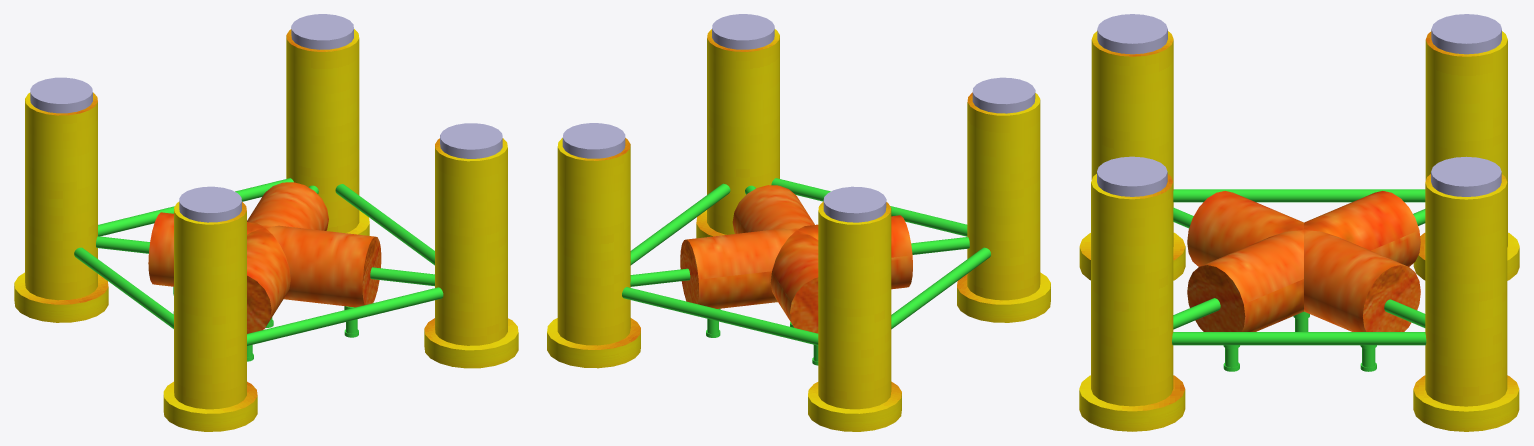
File: NuclearFactory_stage1.fbx
The picture shows the model from 3 angles, left to right: view 1: azimuth 30°, elevation 25°; view 2: azimuth 150°, elevation 25°; view 3: azimuth 270°, elevation 25°; orthographic projection. The views are drawn at different scales.
Parts seen in each view (by area): view 1: polySurface88; view 2: polySurface88; view 3: polySurface88.
Part boxes in pixels (x1,y1,x2,y2): polySurface88: (14,14,518,431); polySurface88: (547,14,1050,431); polySurface88: (1079,14,1519,431).
Size of the model in its own units: 49.27 by 29.14 by 48.9.
4 materials, 3 textured.
